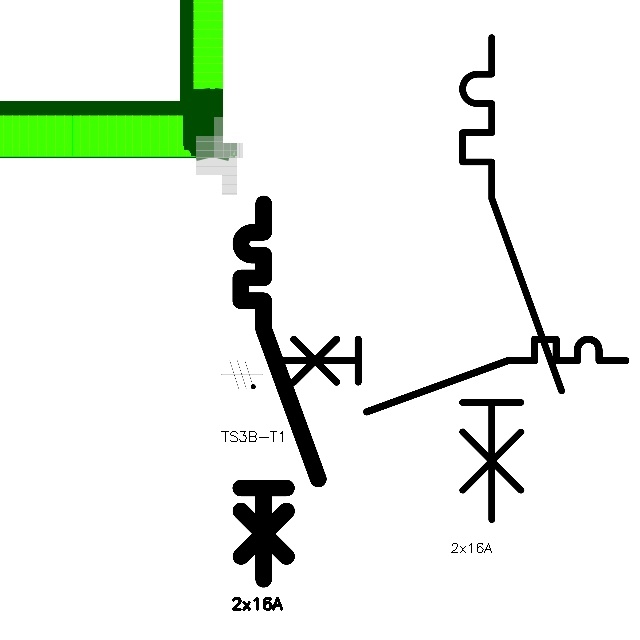interruptor_termomagnetico: (450, 25, 574, 532), (231, 194, 327, 589), (263, 330, 635, 421)
